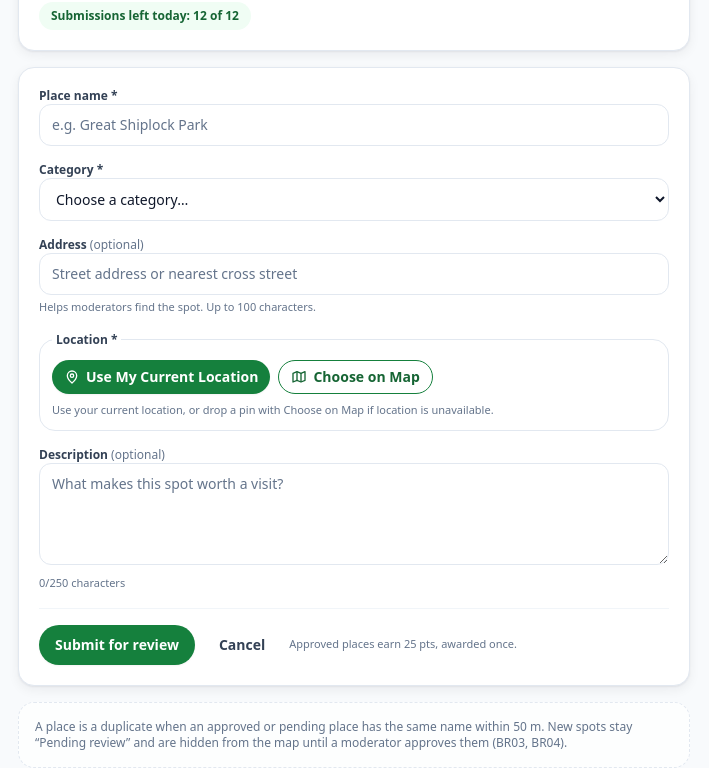
Test: AddPlacePage — validation and error paths › refuses an empty form and names every missing field
The width and height of the screenshot is (709, 768).
(page scrolled)
Click the button "Submit for review".
click(117, 644)  # box [39,624,195,664]
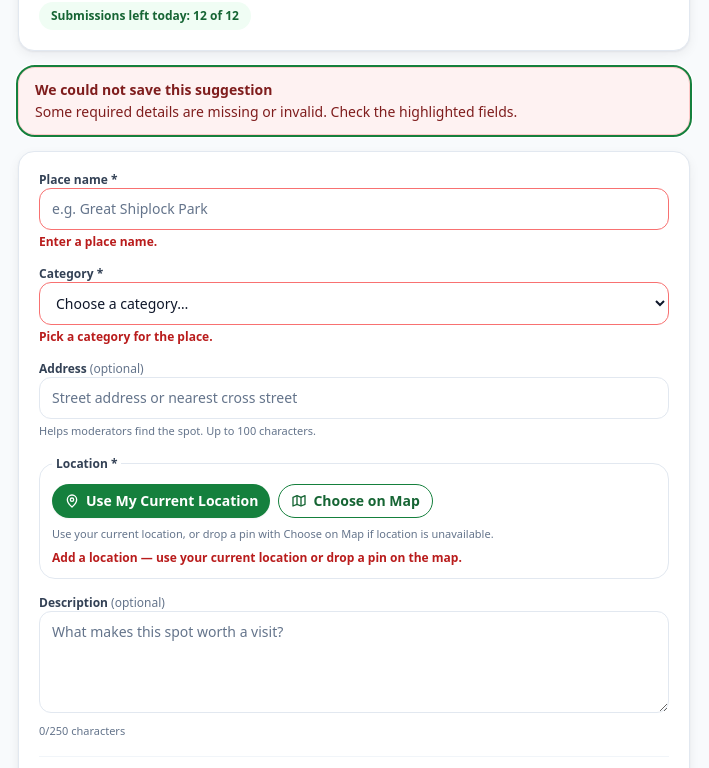
Check: the message that starts with "We could not save this suggestion" shows "Some required details are missing or invalid", box [35,102,517,121]
Check: the text "Enter a place name." is shown, box [39,233,157,250]
Check: the text "Pick a category for the place." is shown, box [39,328,213,345]
